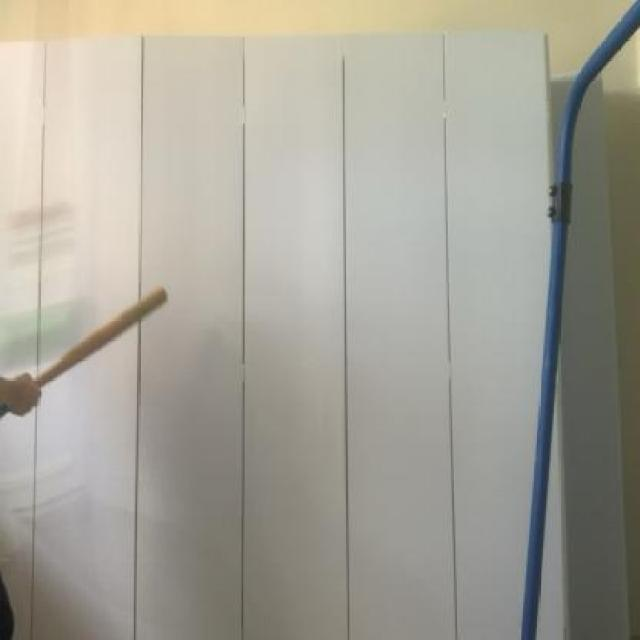baseball: (0, 293, 105, 389)
